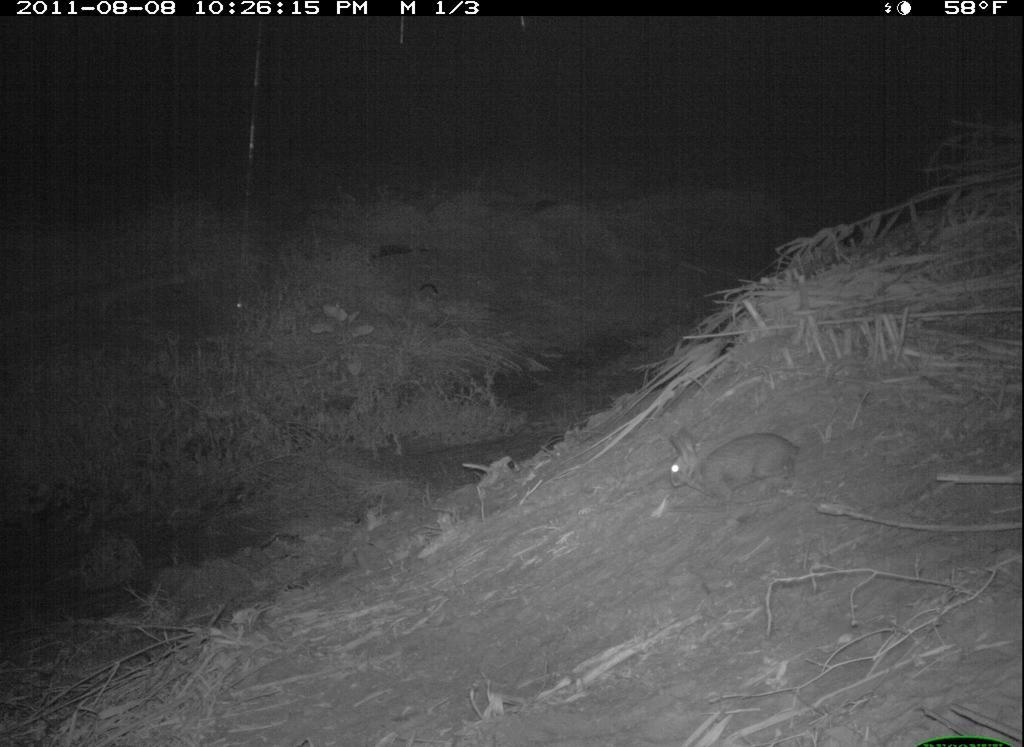rabbit: (664, 424, 803, 509)
